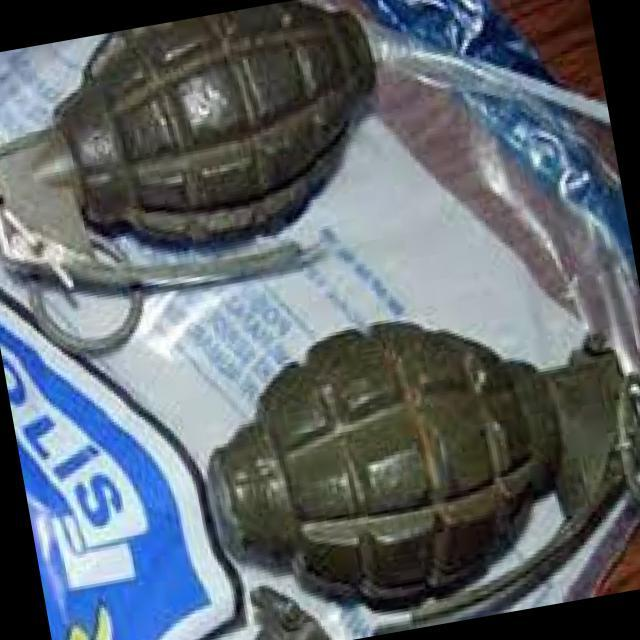grenade: (176, 270, 640, 640), (0, 0, 438, 364)
